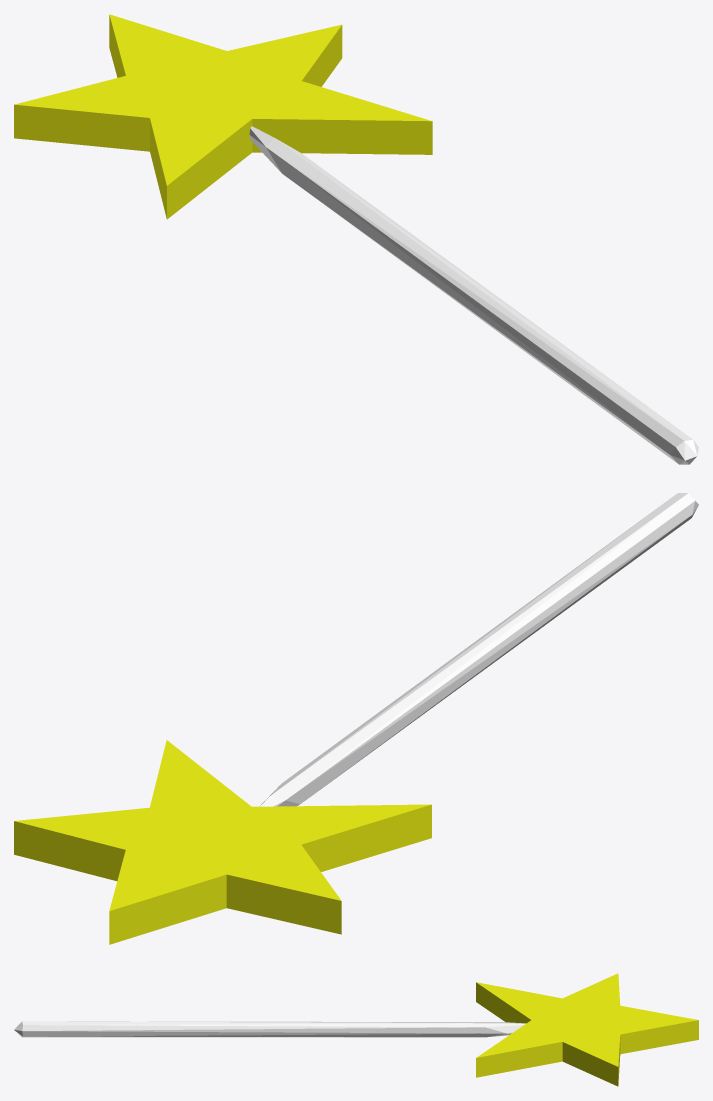
File: magicalwand.fbx
3 renders of one model, top to bottom at view 1: azimuth 30°, elevation 25°; view 2: azimuth 150°, elevation 25°; view 3: azimuth 270°, elevation 25°, orthographic. The views are drawn at different scales.
Parts seen in each view (by area): view 1: Cube; view 2: Cube; view 3: Cube.
Boxes of the visible parts, x1=… form: Cube: x1=14, y1=14, x2=698, y2=464; Cube: x1=14, y1=493, x2=698, y2=944; Cube: x1=14, y1=973, x2=698, y2=1086.
Bounding box in the file's own units: 0.2727 × 0.0268 × 0.8411.
